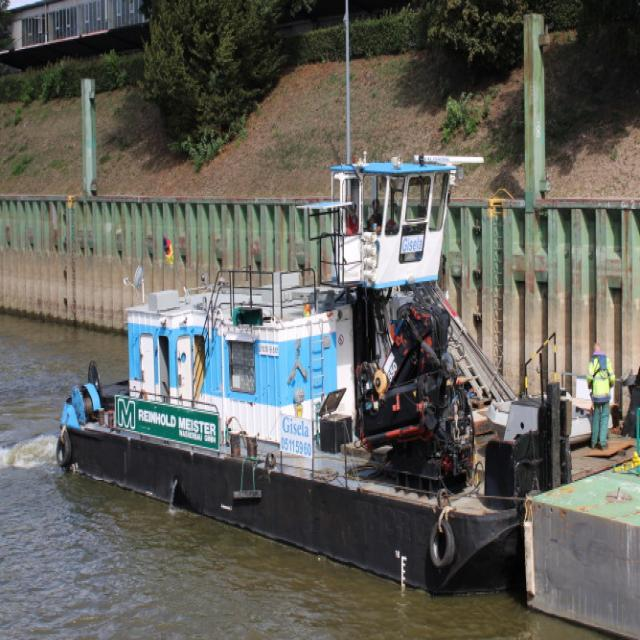tugboat: (52, 142, 640, 613)
